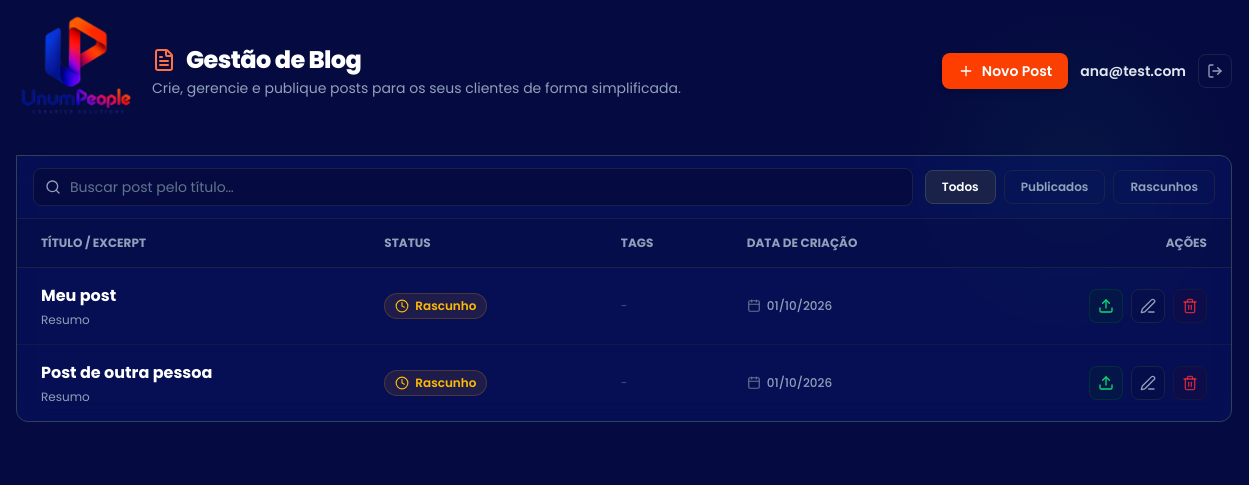
Scenario: Lista de posts segue as permissões do Blog › 403 com permissão vindo da API mostra a mensagem de permissão
Click the button named "Publicar Post" in the row of "Meu post" at (1106, 306), box [1089,289,1123,323]
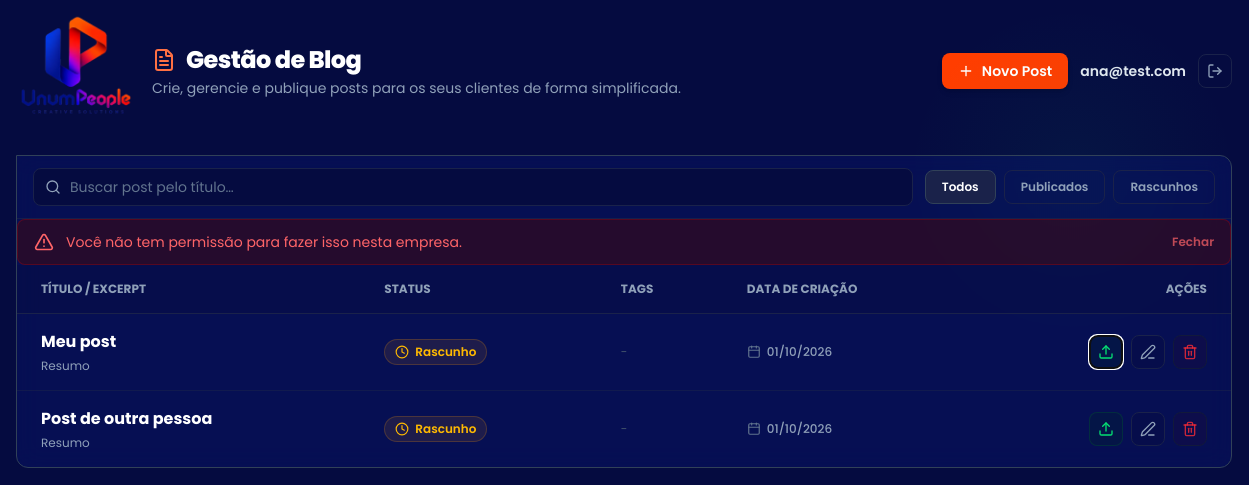
Expected: the text "Você não tem permissão para fazer isso nesta empresa." is shown, [66,232,462,252]
